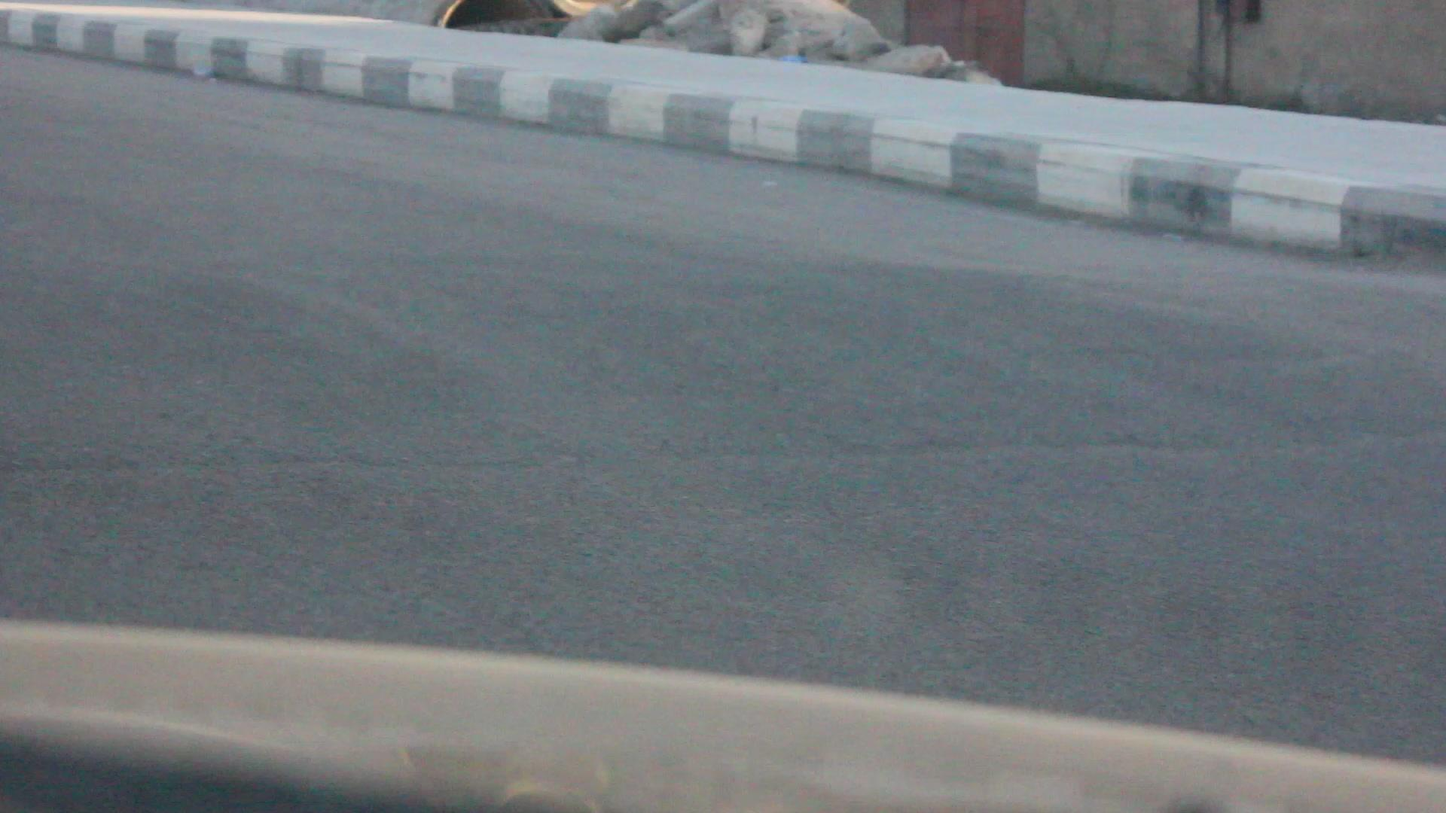Bump: (0, 205, 1445, 463)
